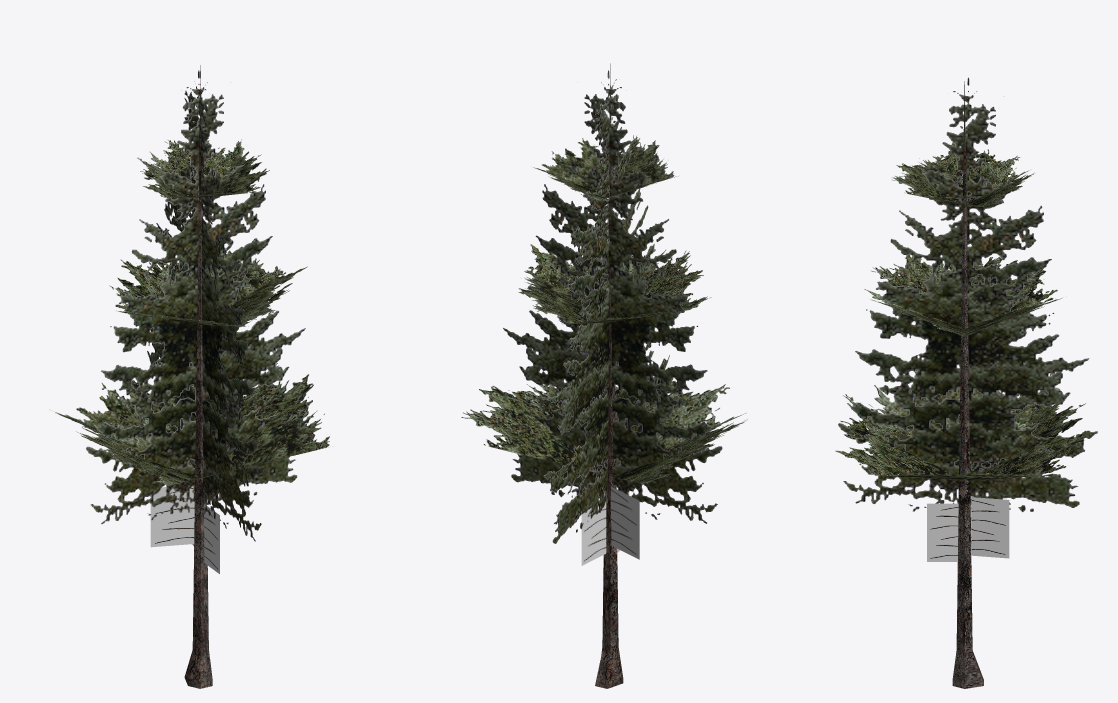
Rendered from Tree1.fbx.
3 views of the same model, side by side, from view 1: azimuth 30°, elevation 25°; view 2: azimuth 150°, elevation 25°; view 3: azimuth 270°, elevation 25° (orthographic).
Parts seen in each view (by area): view 1: hi1vetve, hi1kmen; view 2: hi1vetve, hi1kmen; view 3: hi1vetve, hi1kmen.
Boxes of the visible parts, box(x1,y1,x2,y2) form: hi1vetve: box(49, 70, 329, 573); hi1kmen: box(184, 65, 212, 688); hi1vetve: box(461, 70, 747, 565); hi1kmen: box(595, 63, 623, 688); hi1vetve: box(835, 77, 1097, 561); hi1kmen: box(952, 81, 983, 688).
Size of what is drawn, in the model's own units: 523 by 1272 by 523.
